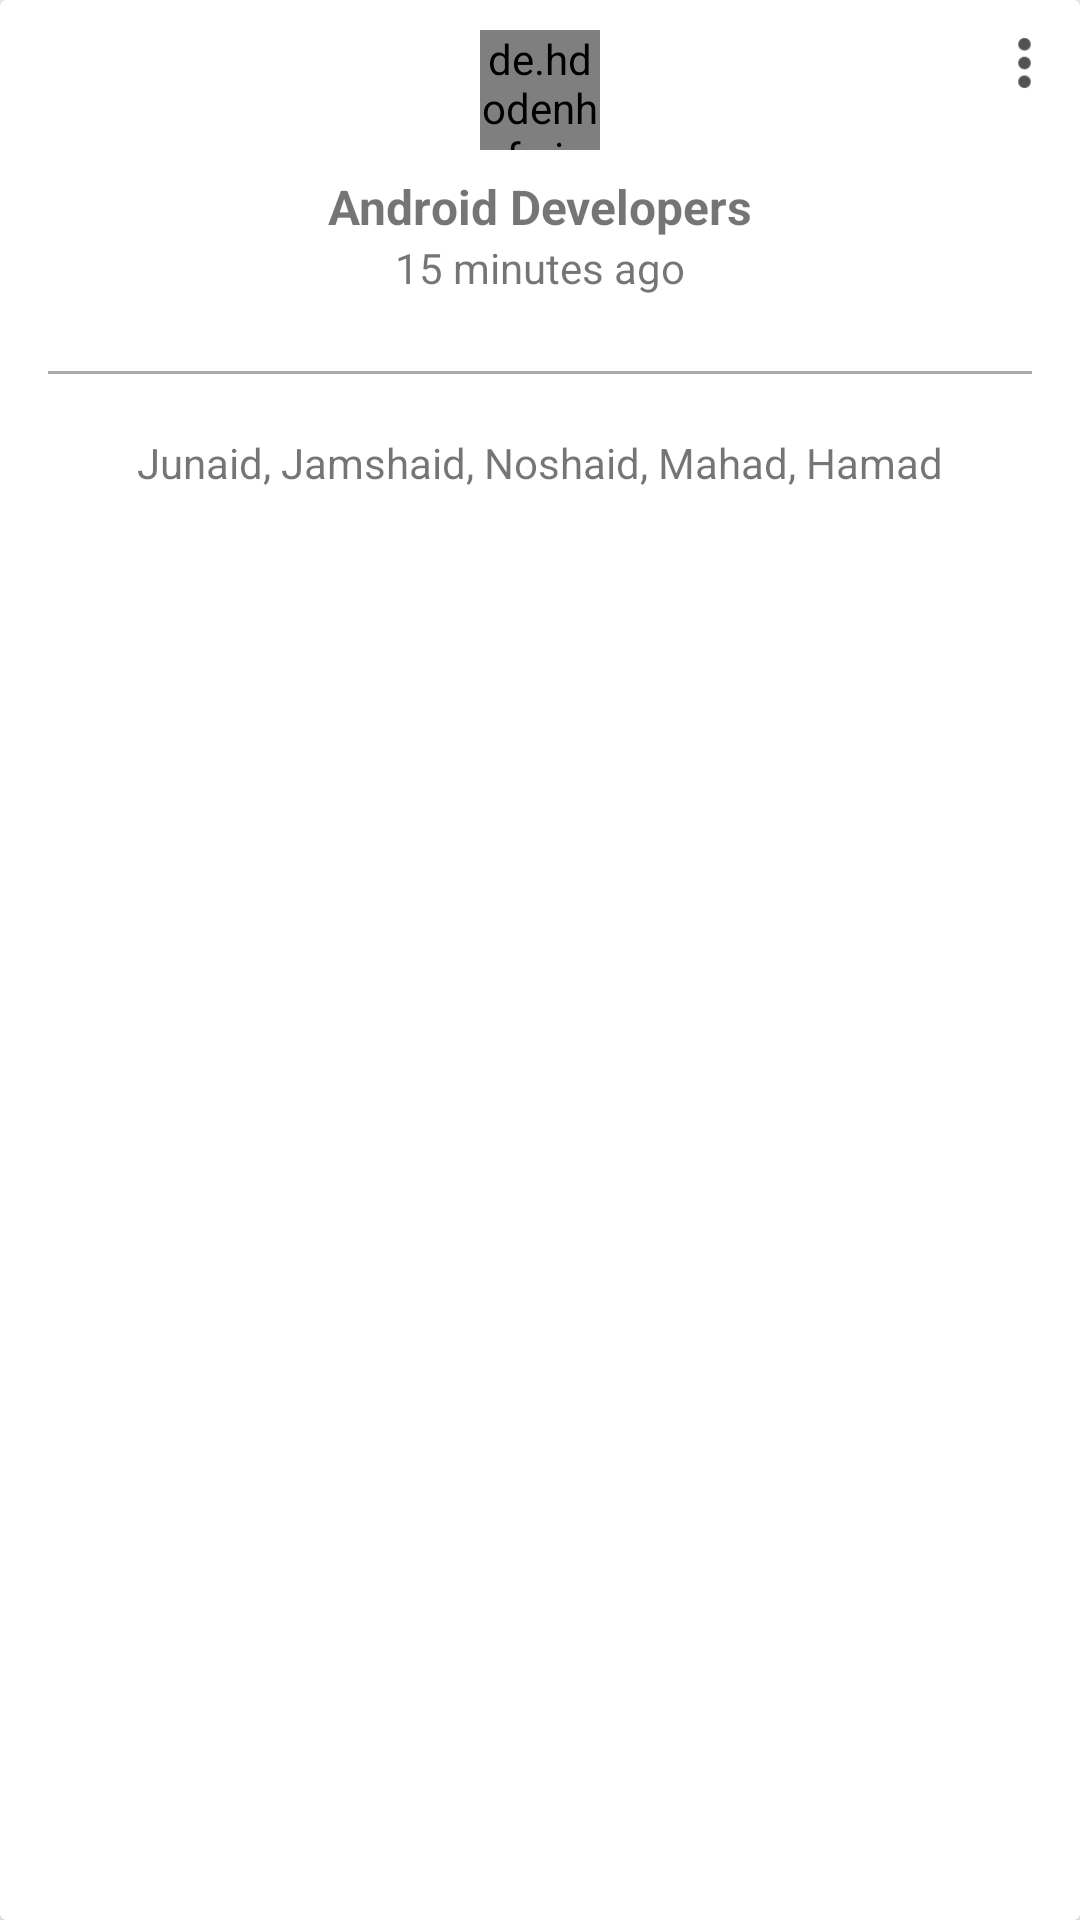

Named icons in this screenshot (1080 x 1920) and their bounding boxes, {"left": x1, "top": y1, "right": x2, "bottom": y2}:
more: {"left": 1018, "top": 38, "right": 1031, "bottom": 88}
